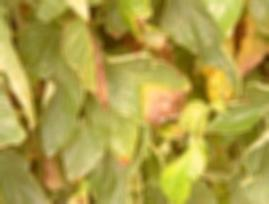Tomato mold leaf: (63, 20, 195, 135), (20, 16, 89, 156), (203, 81, 269, 139), (0, 147, 57, 204)
